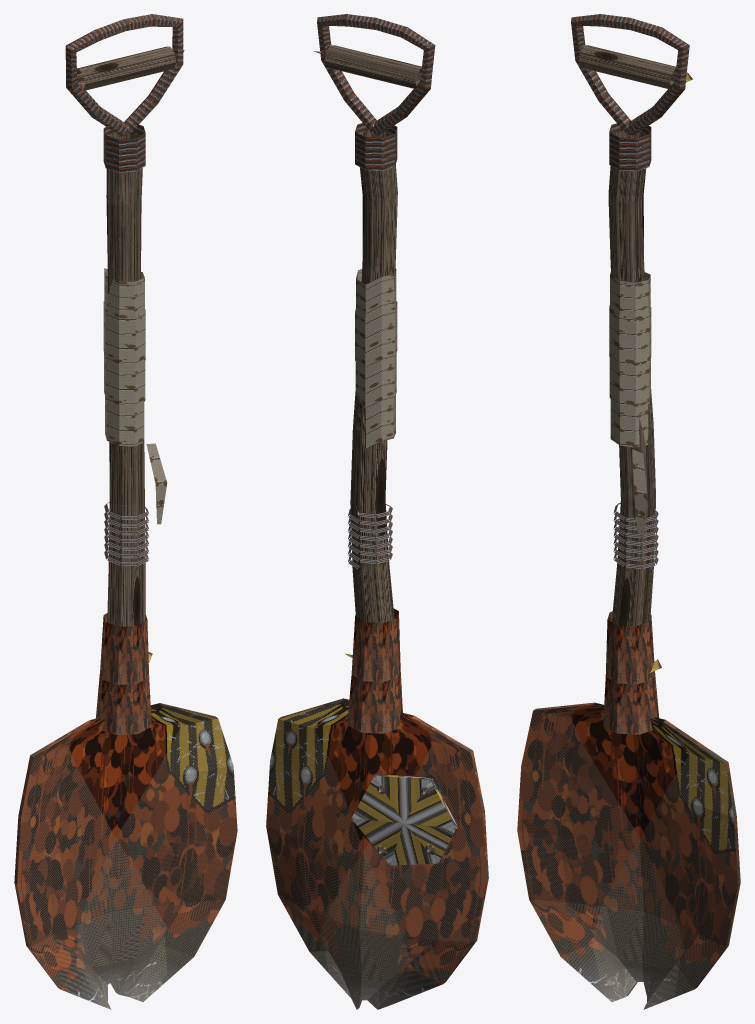
File: Rusty_Shovel.fbx
3 renders of one model, left to right at view 1: azimuth 30°, elevation 25°; view 2: azimuth 150°, elevation 25°; view 3: azimuth 330°, elevation 25°, orthographic.
Parts seen in each view (by area): view 1: Rusty_Shovel; view 2: Rusty_Shovel; view 3: Rusty_Shovel.
Part boxes in pixels (x1=…): Rusty_Shovel: x1=14, y1=14, x2=237, y2=1009; Rusty_Shovel: x1=266, y1=14, x2=488, y2=1009; Rusty_Shovel: x1=517, y1=14, x2=740, y2=1009.
Bounding box in the file's own units: 0.28 × 0.066 × 1.2.
1 material, 1 textured.
